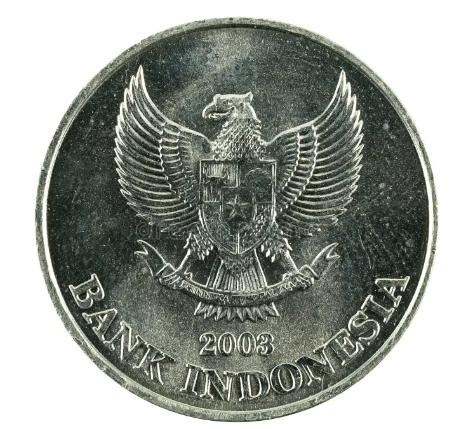coin_200_e2003: (34, 17, 439, 423)
